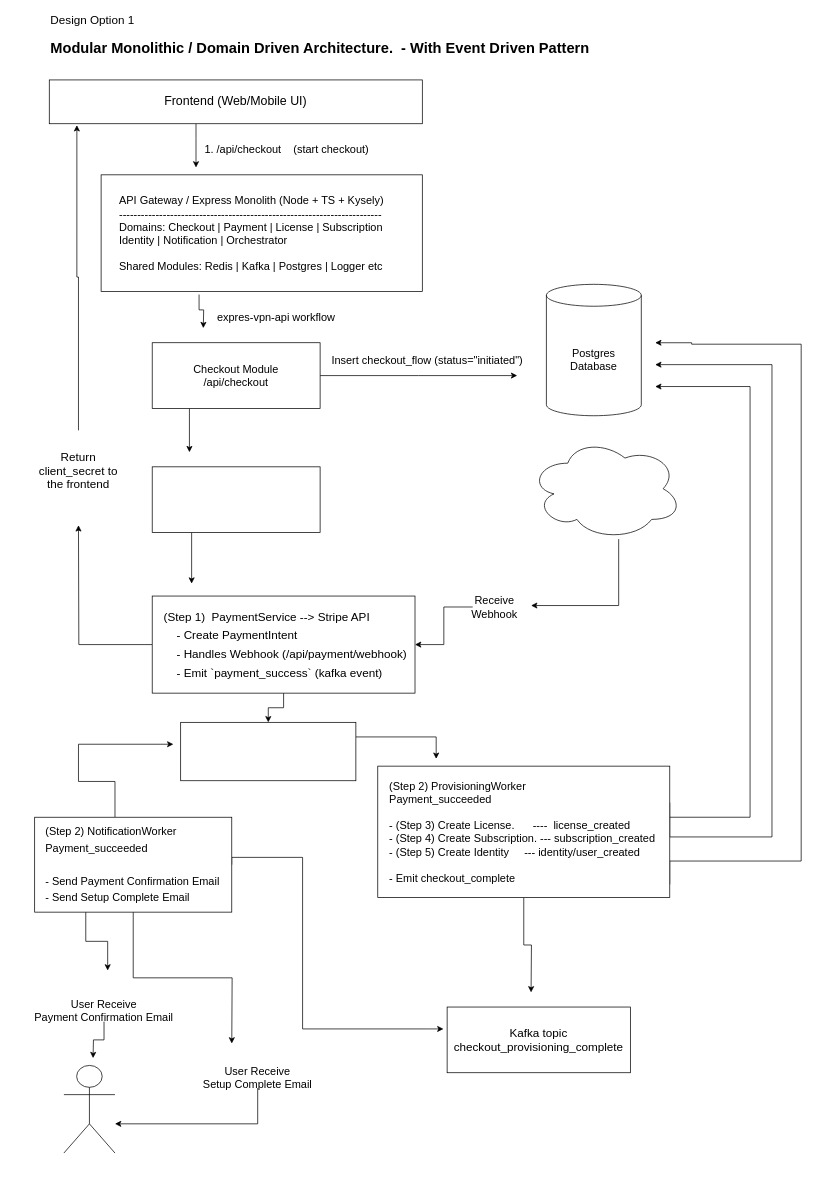
The diagram is 820 pixels wide and 1191 high, and some of its shapes have lost their labels. The shapes that lost their labels are listed below. From the top down, each one's box as (x1, y1, x2, y2) in pixels, then its label:
(151, 466, 320, 533): Saga / Workflow Orchestrator Module
(529, 437, 682, 540): Stripe
(180, 722, 356, 781): Kafka topic checkout_payment_succeeded
(63, 1065, 115, 1153): User
